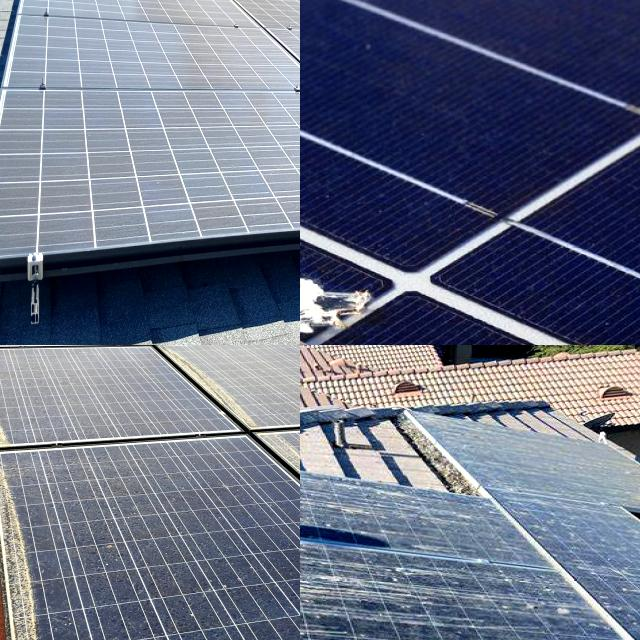bird: (300, 222, 435, 345), (300, 537, 377, 591), (300, 606, 355, 638)
dust: (35, 472, 296, 561), (16, 92, 144, 234), (0, 351, 136, 448), (177, 110, 300, 210), (70, 590, 300, 640), (122, 20, 270, 74), (18, 18, 108, 82), (11, 479, 36, 640), (151, 0, 256, 28), (39, 0, 129, 32), (273, 0, 300, 17)
